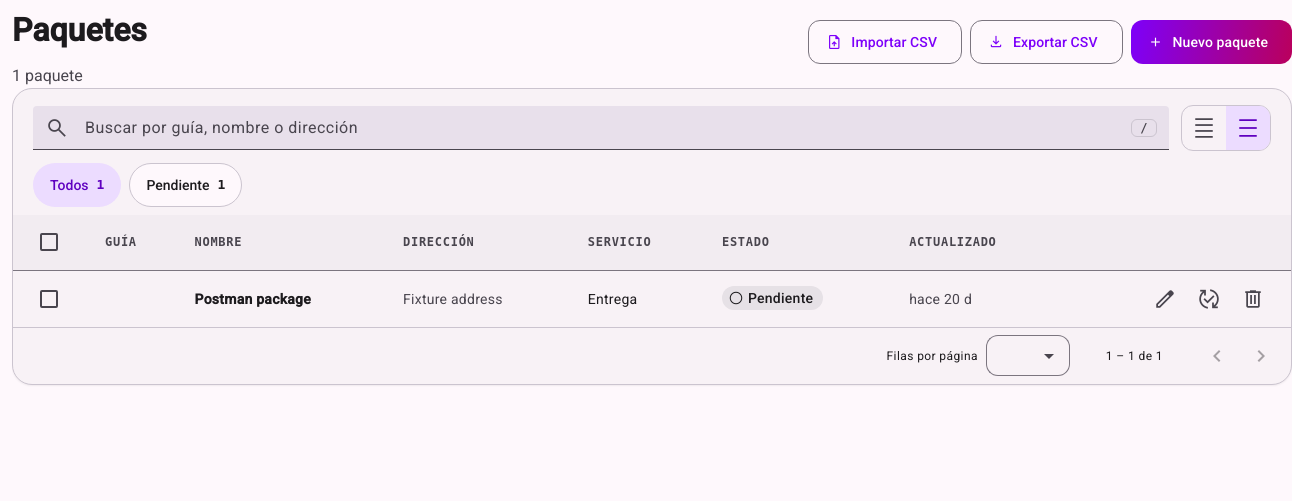
PackageListComponent › estado › un error del gateway se muestra y no recarga la fila
This screenshot has width=1292, height=501.
Step 1. Click the button named "Cambiar el estado del paquete Postman package" → (1209,299), box [1187,277,1231,321]
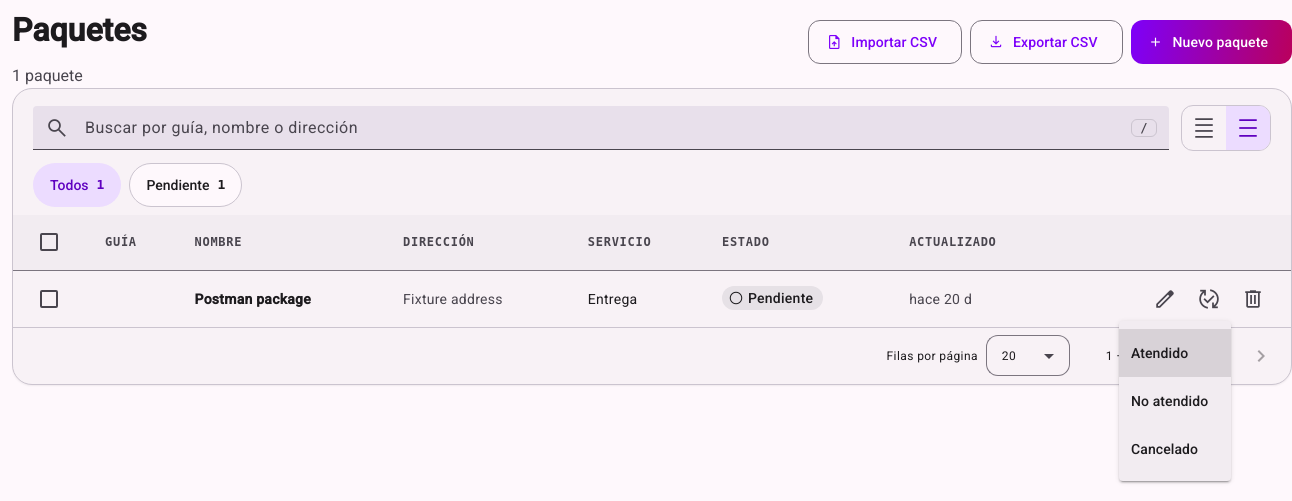
Step 2. Click the menu item "Atendido" → (1175,353), box [1119,329,1231,377]
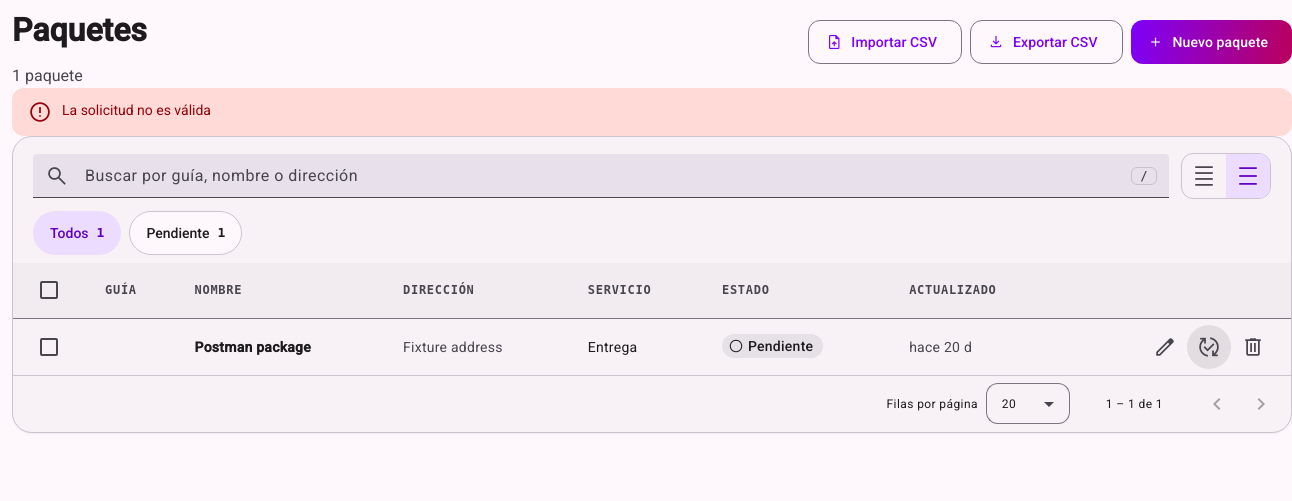
Expected: the row "Postman package Fixture address Entrega Pendiente hace 20 d" is shown, [13,319,1291,375]
Expected: the message "La solicitud no es válida" is shown, [12,88,1291,136]
